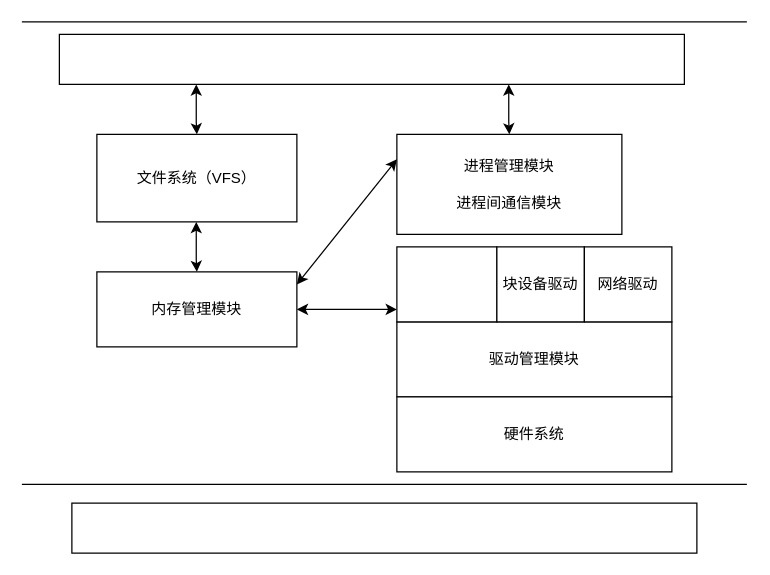
The diagram is 770 pixels wide and 575 high, and some of its shapes have lost their labels. The shapes that lost their labels are listed below. From the top down, each one's centre as x and y in pixels, then its label:
At point 371,58: "操作系统的服务层--系统调用接口".
At point 446,284: "字符设备驱动".
At point 384,527: "硬件".
